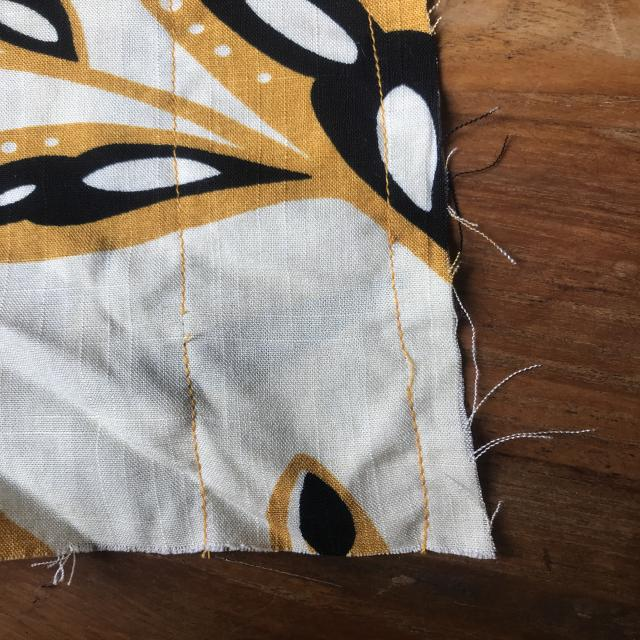broken: (164, 295, 216, 362)
skip: (383, 326, 438, 399)
